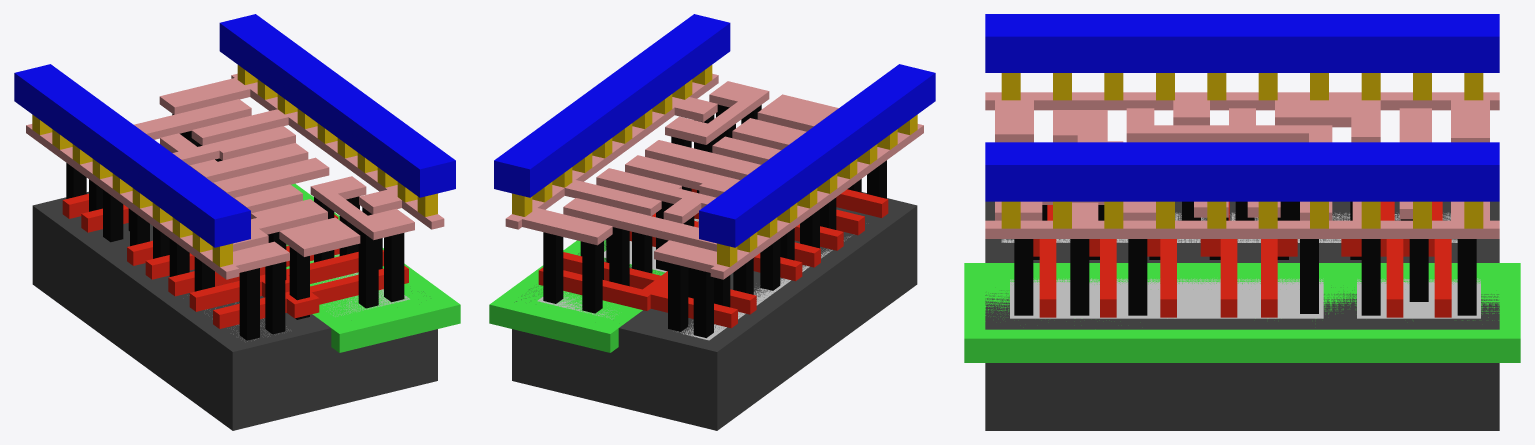
The model's file is sky130_fd_sc_hd__a2111o_2.obj.
The picture shows the model from 3 angles, left to right: view 1: azimuth 30°, elevation 25°; view 2: azimuth 150°, elevation 25°; view 3: azimuth 270°, elevation 25°; orthographic projection. The views are drawn at different scales.
Parts seen in each view (by area): view 1: subs, metal1, li, licon, poly, nwell, mcon, tap; view 2: subs, metal1, li, licon, poly, nwell, mcon, diff, tap; view 3: metal1, subs, li, nwell, poly, licon, mcon, tap, diff.
Part boxes in pixels (x1=…): subs: x1=32, y1=191, x2=437, y2=430; metal1: x1=14, y1=14, x2=455, y2=247; li: x1=26, y1=73, x2=444, y2=279; licon: x1=66, y1=114, x2=404, y2=340; poly: x1=62, y1=193, x2=408, y2=328; nwell: x1=286, y1=183, x2=460, y2=352; mcon: x1=32, y1=65, x2=437, y2=266; tap: x1=286, y1=245, x2=409, y2=316; subs: x1=512, y1=192, x2=917, y2=430; metal1: x1=494, y1=14, x2=935, y2=247; li: x1=505, y1=73, x2=923, y2=279; licon: x1=543, y1=104, x2=886, y2=337; poly: x1=538, y1=189, x2=888, y2=328; nwell: x1=489, y1=240, x2=665, y2=352; mcon: x1=512, y1=65, x2=917, y2=266; diff: x1=677, y1=236, x2=850, y2=340; tap: x1=537, y1=219, x2=698, y2=319; metal1: x1=985, y1=14, x2=1499, y2=201; subs: x1=985, y1=201, x2=1499, y2=430; li: x1=985, y1=92, x2=1499, y2=238; nwell: x1=964, y1=263, x2=1520, y2=362; poly: x1=1033, y1=201, x2=1451, y2=317; licon: x1=1006, y1=201, x2=1476, y2=315; mcon: x1=1001, y1=73, x2=1483, y2=228; tap: x1=1010, y1=278, x2=1480, y2=318; diff: x1=1001, y1=212, x2=1457, y2=242.
Bounding box in the file's own units: 3.2 × 2.74 × 4.98.
